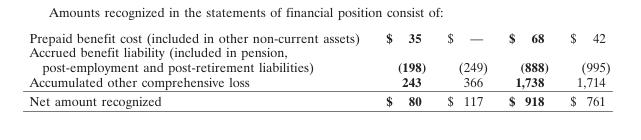table: (28, 29, 609, 108)
table column: (28, 29, 372, 108), (372, 29, 436, 108), (436, 29, 497, 108), (497, 29, 558, 108), (558, 29, 609, 108)
table column header: (28, 29, 609, 44)
table row: (28, 44, 609, 73), (28, 90, 609, 108), (28, 73, 609, 90), (28, 29, 609, 44)
